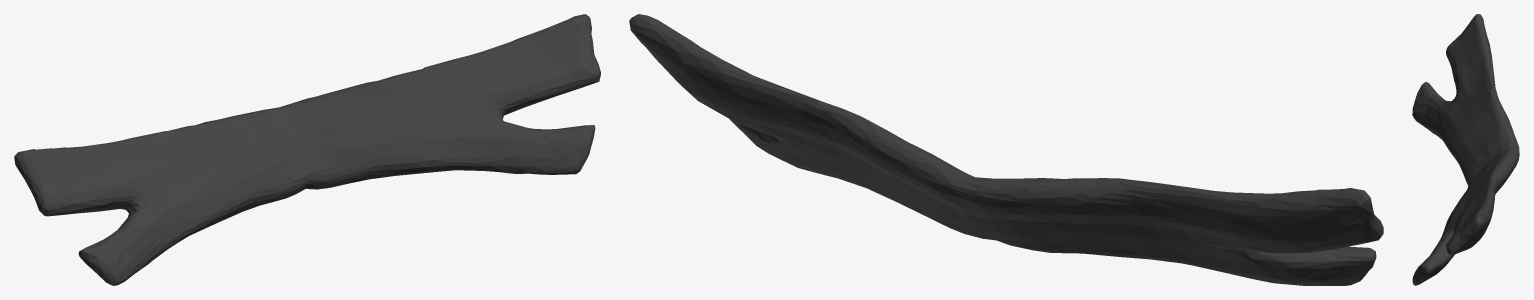
Rendered from m_parietoauricularis.glb.
3 views of the same model, side by side, from view 1: azimuth 30°, elevation 25°; view 2: azimuth 150°, elevation 25°; view 3: azimuth 270°, elevation 25° (orthographic). The views are drawn at different scales.
Parts seen in each view (by area): view 1: m_parietoauricularis; view 2: m_parietoauricularis; view 3: m_parietoauricularis.
Boxes of the visible parts, x1,y1,x2,y2 form: m_parietoauricularis: (14,14,600,285); m_parietoauricularis: (629,14,1383,285); m_parietoauricularis: (1412,14,1519,285).
Size of the model in its own units: 0.00208 by 0.000404 by 0.000453.
1 material, 1 textured.
